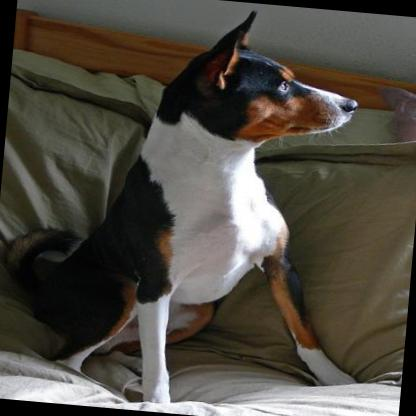basenji: (0, 0, 390, 416)
